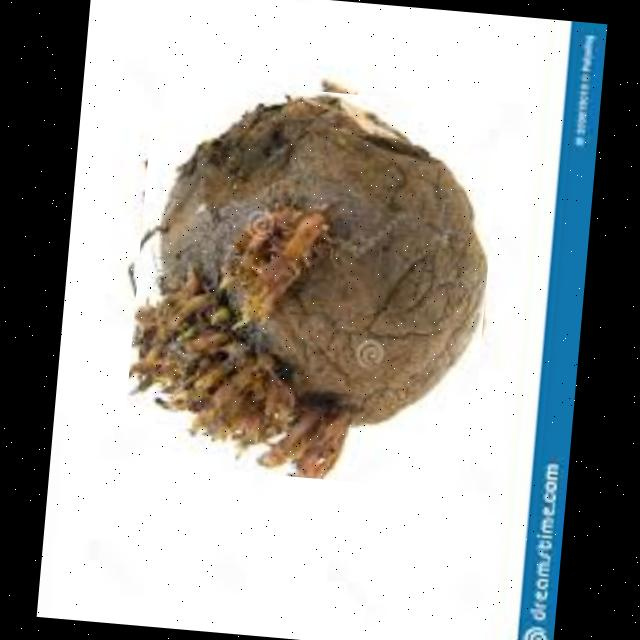Sprouted potato: (120, 76, 500, 492)
